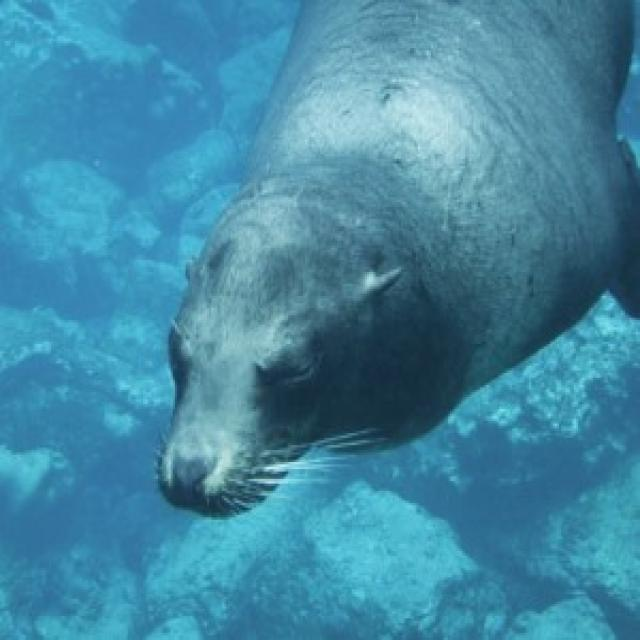Seal: (148, 8, 640, 539)
